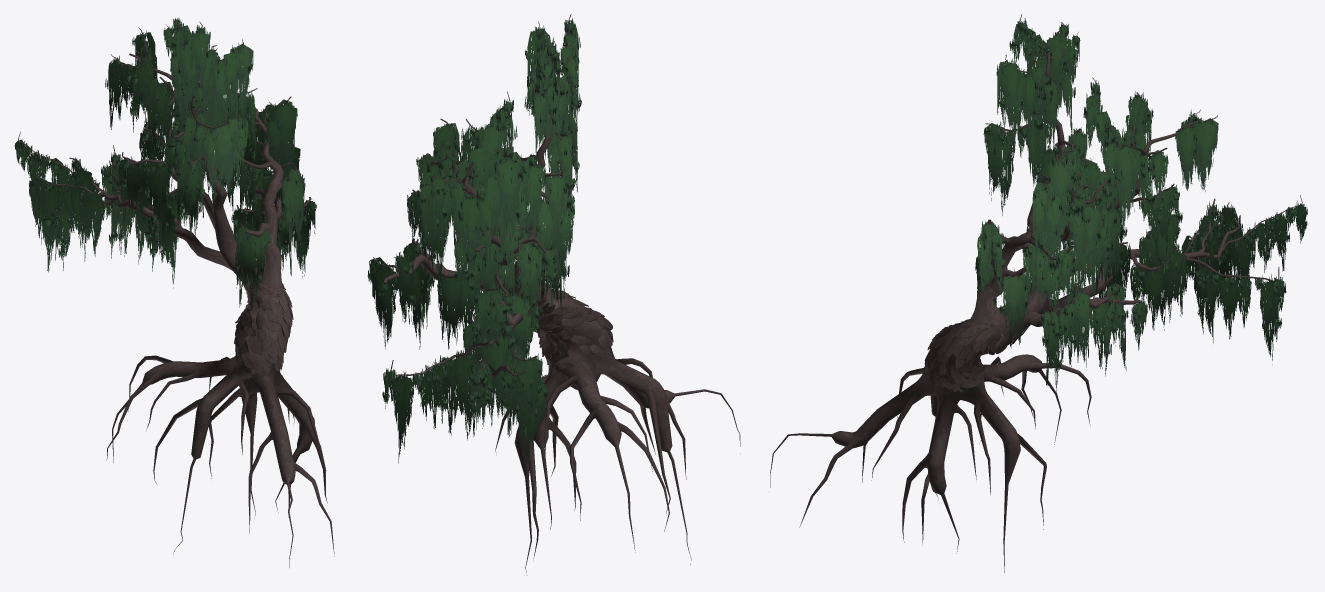
The picture shows the model from 3 angles, left to right: view 1: azimuth 30°, elevation 25°; view 2: azimuth 150°, elevation 25°; view 3: azimuth 270°, elevation 25°; orthographic projection. The views are drawn at different scales.
Parts seen in each view (by area): view 1: SM_SwampTree_02_LOD0; view 2: SM_SwampTree_02_LOD0; view 3: SM_SwampTree_02_LOD0.
Part boxes in pixels (x1,y1,x2,y2): SM_SwampTree_02_LOD0: (14, 17, 334, 567); SM_SwampTree_02_LOD0: (367, 14, 740, 575); SM_SwampTree_02_LOD0: (770, 14, 1307, 572).
Size of the model in its own units: 13.4 by 28.84 by 26.21.
Materials: 2 (2 with a texture image).
